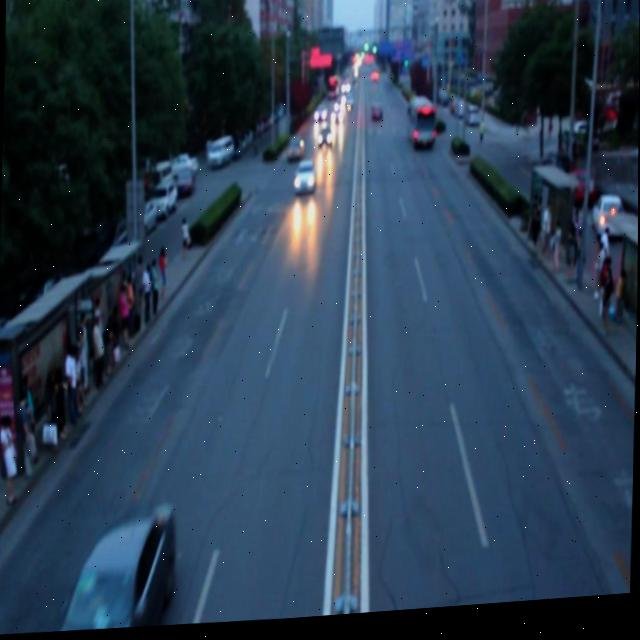car: (64, 506, 173, 634), (294, 163, 315, 197), (287, 142, 303, 161), (318, 130, 332, 149)
van: (404, 100, 437, 152)
